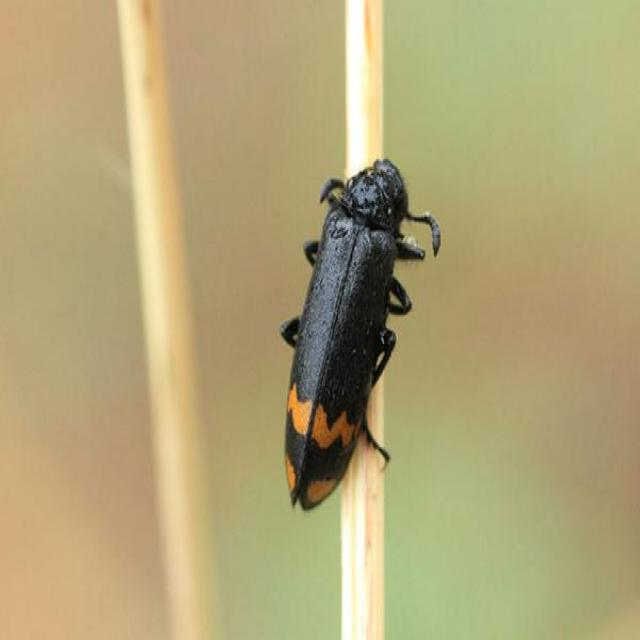BlisterBeetle-Adult-: (263, 133, 464, 530)
